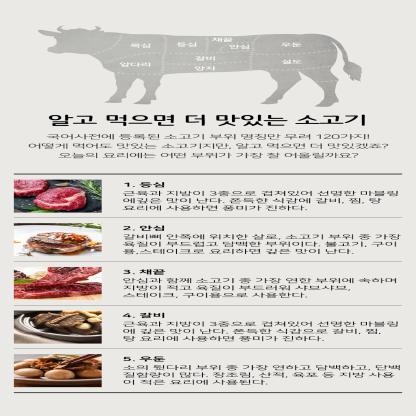beef: (13, 266, 103, 298), (22, 180, 98, 213)
